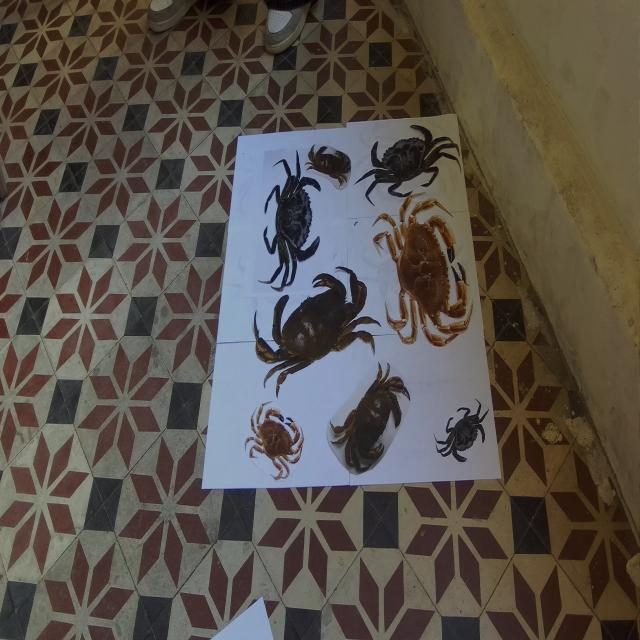European_Green_Crab: (349, 106, 462, 219), (257, 142, 328, 303), (432, 386, 496, 481)
